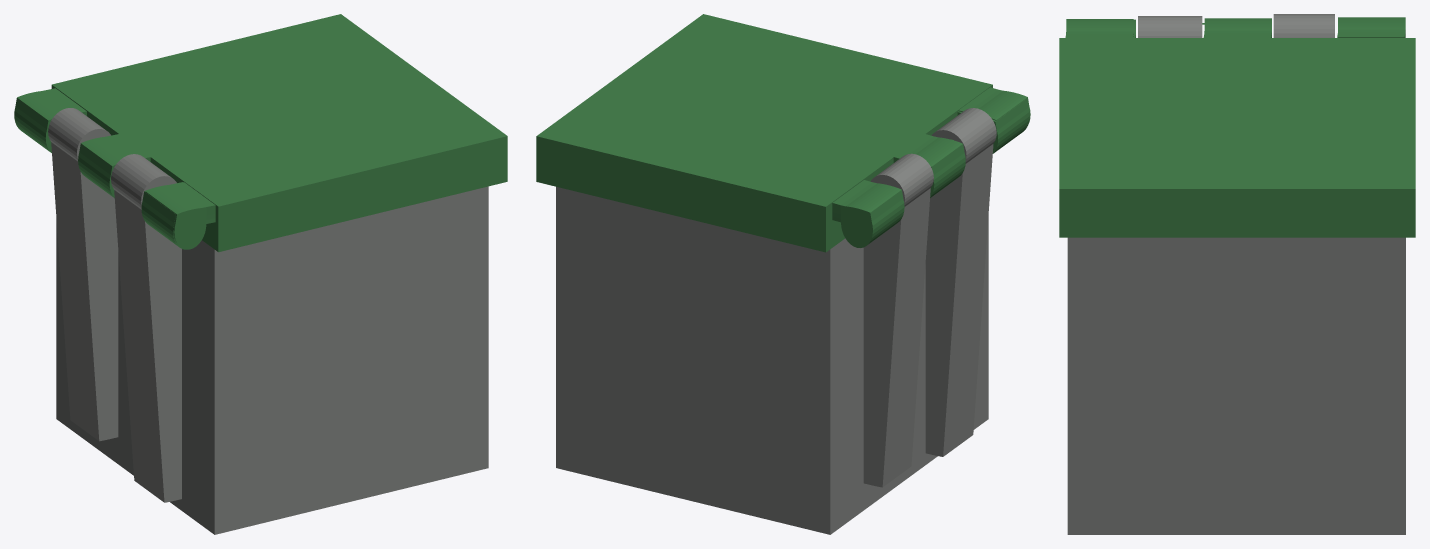
3 renders of one model, left to right at view 1: azimuth 30°, elevation 25°; view 2: azimuth 150°, elevation 25°; view 3: azimuth 270°, elevation 25°, orthographic. The views are drawn at different scales.
Visible parts, largest first — view 1: Cube.005, Cube.007, Cube.008, Cube.001, Cube.006, Cube.012; view 2: Cube.005, Cube.007, Cube.001, Cube.006, Cube.008, Cube.012; view 3: Cube.005, Cube.007, Cube.001, Cube.006, Cube.008.
Boxes of the visible parts, <box> form: Cube.005: <box>48,108,488,534</box>; Cube.007: <box>51,14,507,252</box>; Cube.008: <box>145,182,215,249</box>; Cube.001: <box>14,88,86,152</box>; Cube.006: <box>78,134,150,197</box>; Cube.012: <box>141,182,185,249</box>; Cube.005: <box>556,108,996,534</box>; Cube.007: <box>536,14,992,252</box>; Cube.001: <box>832,180,904,247</box>; Cube.006: <box>893,134,965,197</box>; Cube.008: <box>958,87,1030,123</box>; Cube.012: <box>957,99,1029,153</box>; Cube.005: <box>1067,14,1405,534</box>; Cube.007: <box>1059,38,1415,237</box>; Cube.001: <box>1337,17,1405,37</box>; Cube.006: <box>1203,18,1271,37</box>; Cube.008: <box>1065,19,1133,37</box>.
Size of the model in its own units: 242 by 238 by 211.
